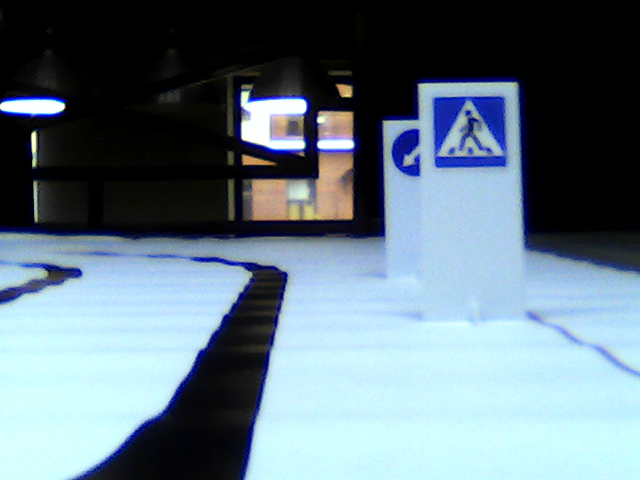pesh: (435, 95, 507, 170)
